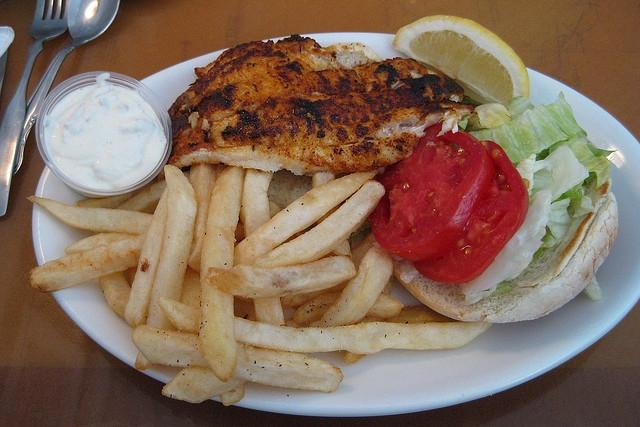lemon: (392, 14, 530, 109)
lettuce: (460, 189, 552, 294), (468, 91, 587, 164), (516, 154, 553, 196), (567, 137, 602, 171), (550, 180, 584, 204), (533, 225, 556, 259), (589, 154, 611, 189), (582, 274, 603, 301), (586, 144, 616, 158), (570, 188, 582, 202)
tomato: (369, 122, 494, 263), (414, 140, 530, 284)
